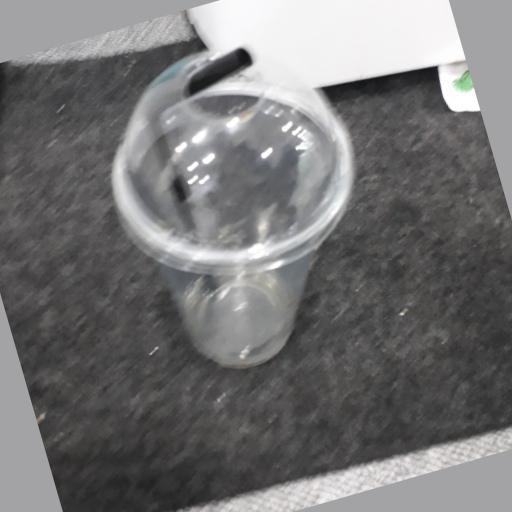Plastic_2: (110, 49, 360, 371)
